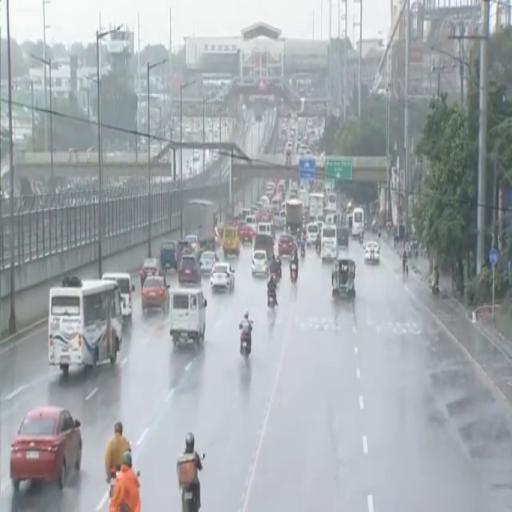bus: (48, 278, 122, 373), (321, 224, 338, 261), (309, 192, 324, 218), (352, 207, 364, 236), (325, 191, 336, 212)
car: (11, 406, 82, 489), (102, 272, 134, 326), (141, 276, 169, 313), (210, 262, 234, 292), (179, 255, 201, 285), (140, 258, 160, 286), (160, 242, 179, 270), (252, 250, 269, 276), (200, 251, 218, 274), (278, 234, 294, 255), (306, 222, 320, 245), (365, 242, 380, 263), (239, 223, 254, 243), (184, 234, 200, 252)
motorcycle: (182, 489, 199, 511), (108, 468, 120, 498), (240, 330, 251, 358), (109, 468, 119, 498), (109, 469, 119, 498), (268, 291, 275, 309), (291, 263, 297, 283), (432, 283, 439, 297), (272, 270, 279, 283), (301, 244, 305, 258), (316, 244, 321, 255), (359, 233, 363, 245)
tricycle: (332, 259, 355, 298)
truck: (183, 200, 217, 251), (286, 199, 303, 233)
